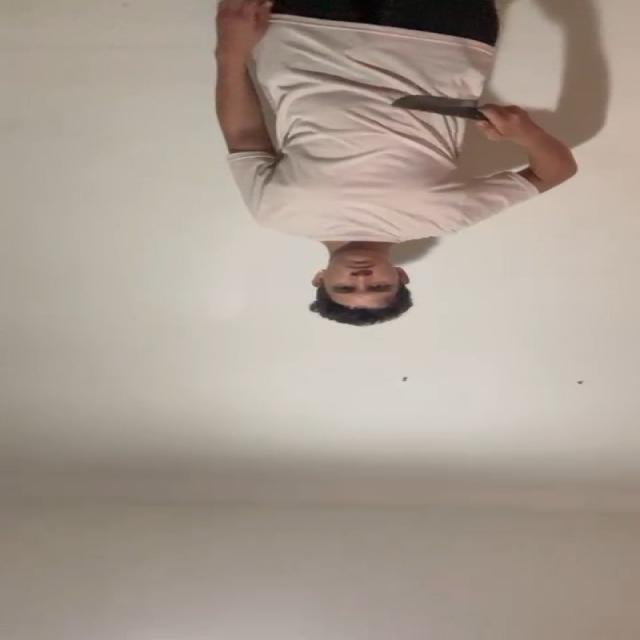knife: (392, 98, 478, 122)
